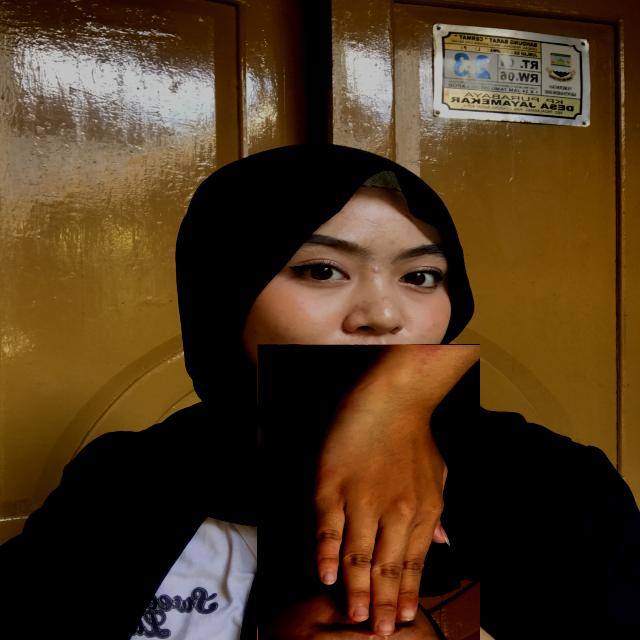ganteng: (257, 344, 480, 640)
